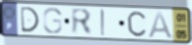A: (147, 10, 176, 40)
C: (126, 10, 147, 38)
D: (19, 6, 41, 34)
G: (42, 7, 64, 36)
I: (99, 9, 107, 38)
R: (69, 7, 94, 37)
